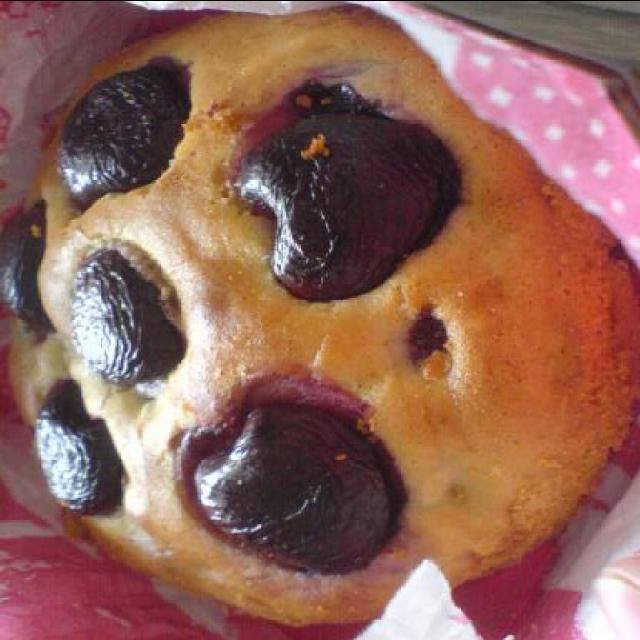Muffin: (39, 1, 639, 630)
